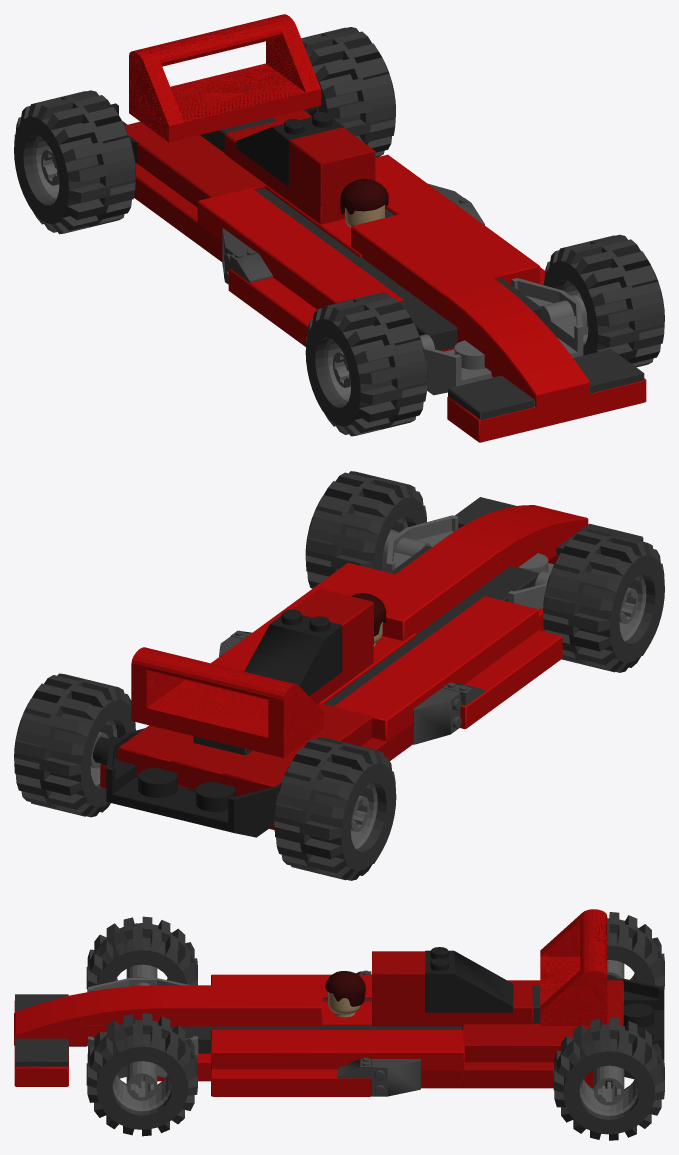
Rendered from Lego Race Car by agd.fbx.
The picture shows the model from 3 angles, top to bottom: view 1: azimuth 30°, elevation 25°; view 2: azimuth 150°, elevation 25°; view 3: azimuth 270°, elevation 25°; orthographic projection. The views are drawn at different scales.
Parts seen in each view (by area): view 1: LegoTri2750, polySurface9, polySurface207, polySurface209, Part_11477.63, polySurface208, L1x4Flat4, L1x4Flat19, L1x4Flat31, LegoTri2746, L1x4Flat25, L1x4Flat3 (+16 smaller); view 2: polySurface207, LegoTri2750, polySurface9, polySurface208, polySurface209, LegoTri2749, L1x4Flat4, L1x4Flat18, L2x3slope2, L1x4Flat19, Part_11477.63, L1x4Flat21 (+14 smaller); view 3: polySurface208, polySurface209, LegoTri2750, L1x4Flat4, polySurface9, Part_11477.63, L1x4Flat25, L2x3slope2, L1x4Flat23, L1x4Flat22, L1x4Flat32, polySurface207 (+21 smaller).
Boxes of the visible parts, <box> form: LegoTri2750: <box>129,14,321,142</box>; polySurface9: <box>305,292,427,436</box>; polySurface207: <box>14,90,135,234</box>; polySurface209: <box>543,234,664,367</box>; Part_11477.63: <box>446,283,589,407</box>; polySurface208: <box>301,27,395,157</box>; L1x4Flat4: <box>351,213,500,317</box>; L1x4Flat19: <box>252,228,403,309</box>; L1x4Flat31: <box>125,121,265,207</box>; LegoTri2746: <box>420,278,588,395</box>; L1x4Flat25: <box>389,195,540,284</box>; L1x4Flat3: <box>447,378,646,442</box>; polySurface207: <box>274,737,396,880</box>; LegoTri2750: <box>131,647,323,757</box>; polySurface9: <box>543,529,664,672</box>; polySurface208: <box>14,673,135,817</box>; polySurface209: <box>305,471,426,588</box>; LegoTri2749: <box>93,728,280,837</box>; L1x4Flat4: <box>369,537,499,640</box>; L1x4Flat18: <box>334,636,479,741</box>; L2x3slope2: <box>244,609,342,695</box>; L1x4Flat19: <box>424,596,538,686</box>; Part_11477.63: <box>446,505,588,572</box>; L1x4Flat21: <box>460,630,562,729</box>; polySurface208: <box>553,1017,664,1140</box>; polySurface209: <box>86,1013,197,1136</box>; LegoTri2750: <box>540,909,607,1025</box>; L1x4Flat4: <box>162,985,322,1025</box>; polySurface9: <box>86,916,197,991</box>; Part_11477.63: <box>14,985,161,1046</box>; L1x4Flat25: <box>211,1030,371,1069</box>; L2x3slope2: <box>425,947,513,1012</box>; L1x4Flat23: <box>211,1069,371,1096</box>; L1x4Flat22: <box>304,1030,464,1070</box>; L1x4Flat32: <box>462,1023,623,1062</box>; polySurface207: <box>607,912,664,989</box>.
Size of the model in its own units: 211 by 101 by 437.
